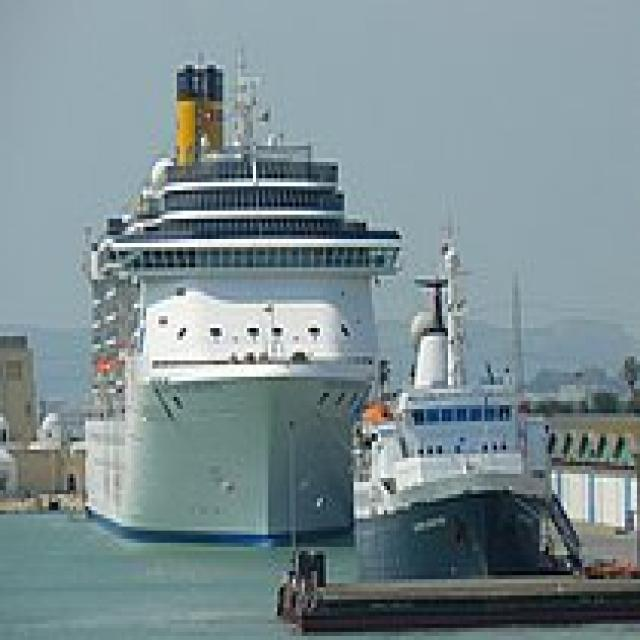Ship: (59, 29, 419, 556)
